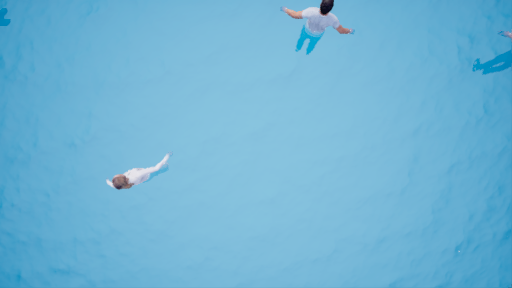person: (274, 4, 360, 59), (101, 148, 177, 191), (470, 17, 512, 81)
